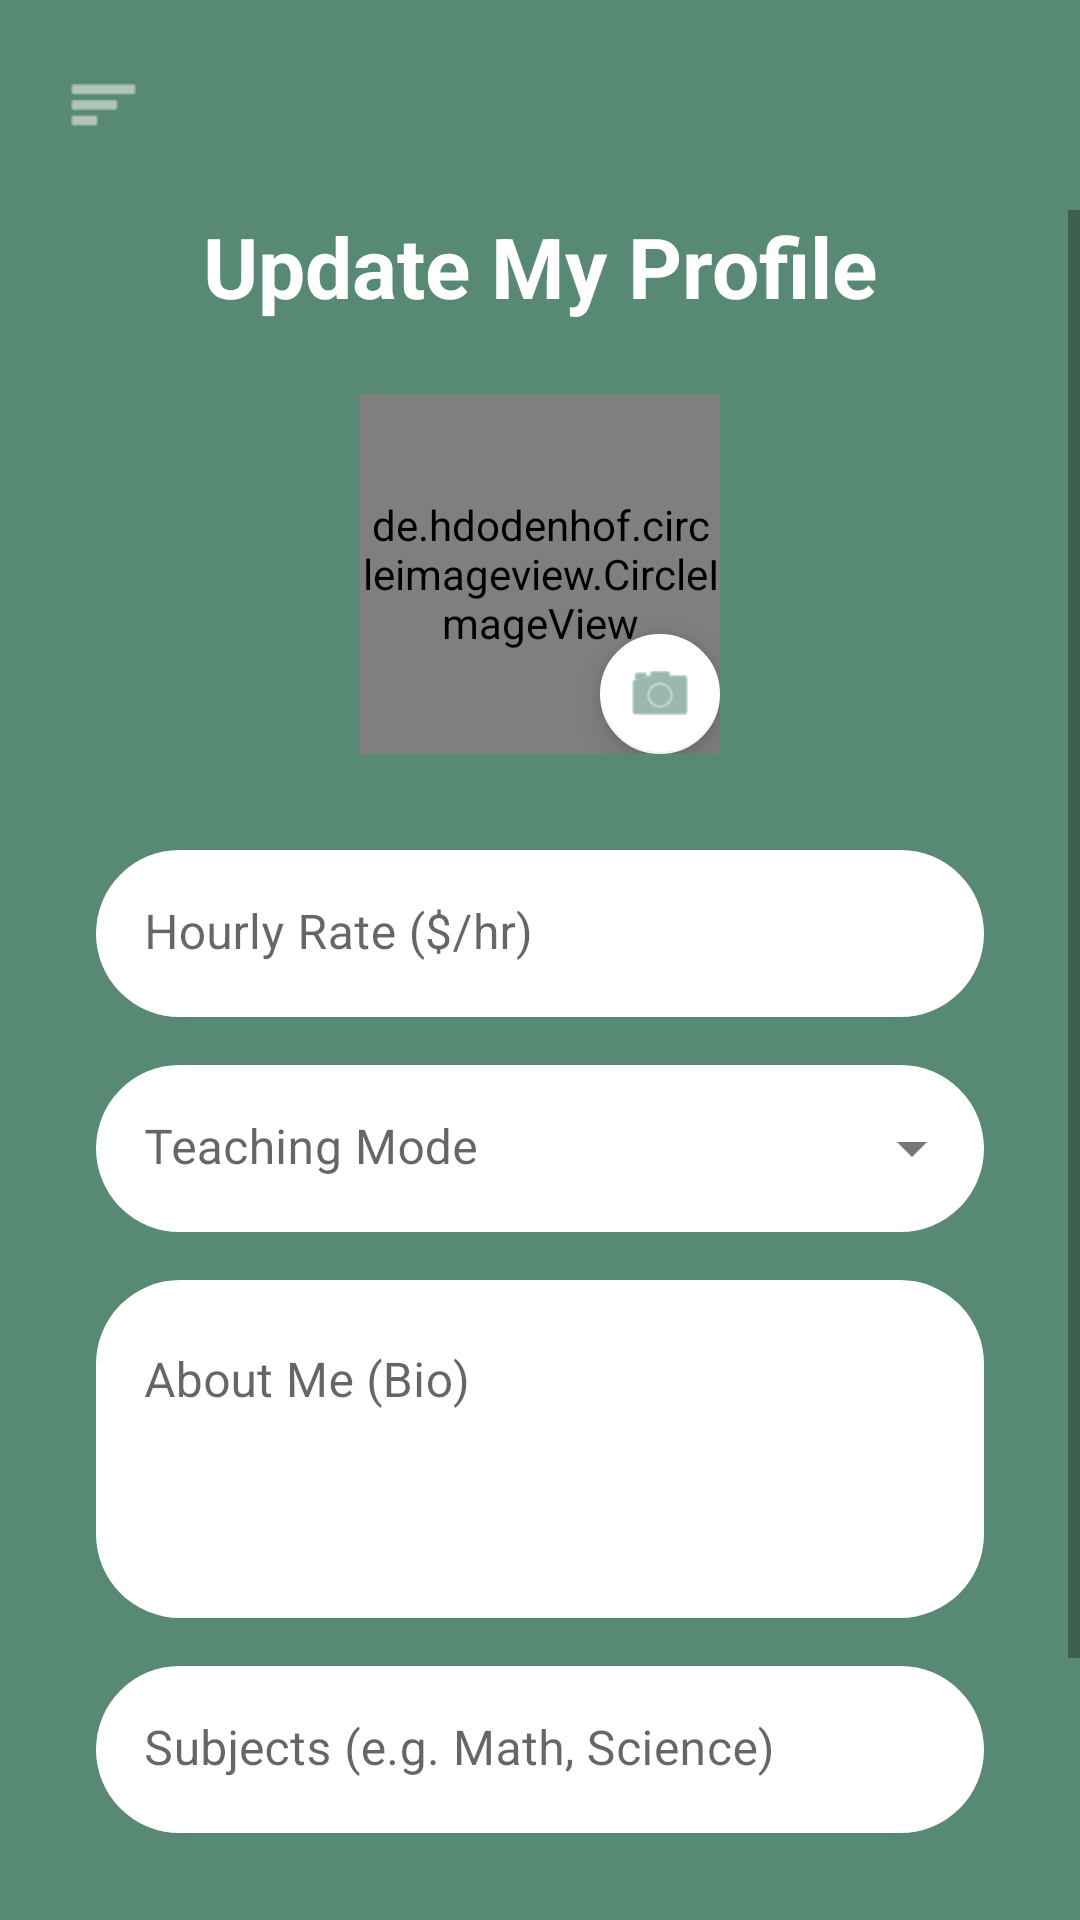

Point at icon controls on the screen. Image size 1080×1920, points as point (x, y).
camera: point (660, 694)
sort by size: point (103, 105)
